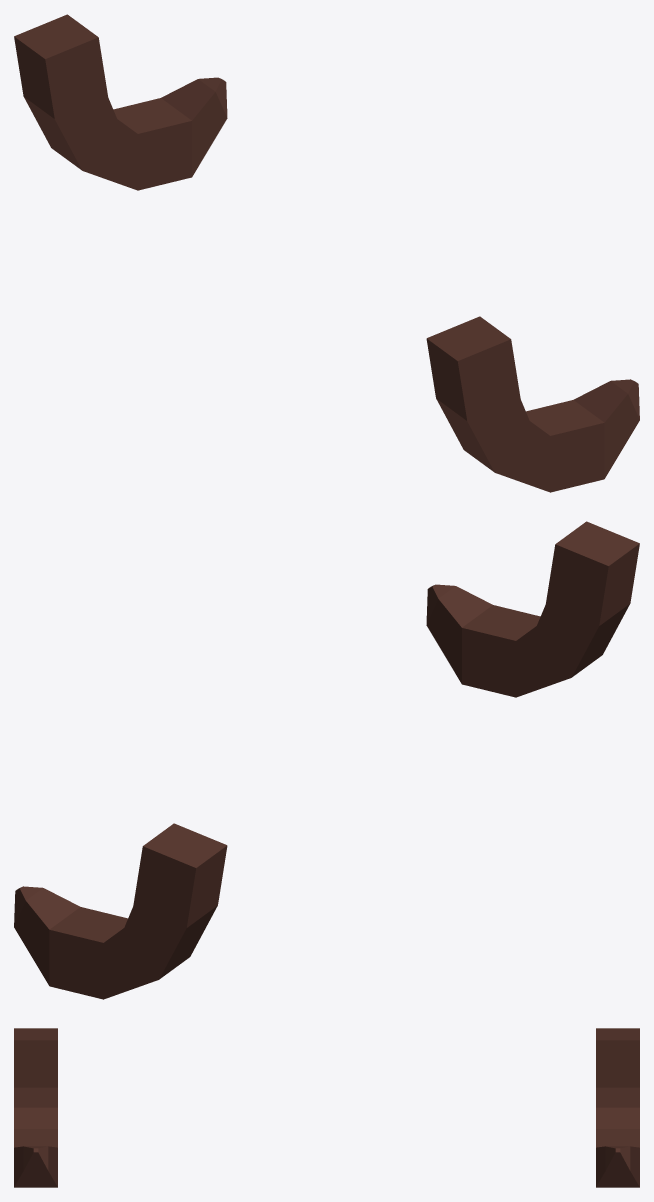
Rendered from repeaterHolder.fbx.
3 views of the same model, one above another, from view 1: azimuth 30°, elevation 25°; view 2: azimuth 150°, elevation 25°; view 3: azimuth 270°, elevation 25° (orthographic). The views are drawn at different scales.
Parts seen in each view (by area): view 1: Cube.001, Cube; view 2: Cube, Cube.001; view 3: Cube, Cube.001.
Part boxes in pixels (x1,y1,x2,y2): Cube.001: [14, 14, 227, 190]; Cube: [426, 316, 639, 492]; Cube: [426, 521, 639, 697]; Cube.001: [14, 823, 227, 999]; Cube: [14, 1028, 57, 1187]; Cube.001: [596, 1028, 639, 1187].
Bounding box in the file's own units: 88.92 × 71.02 × 350.
